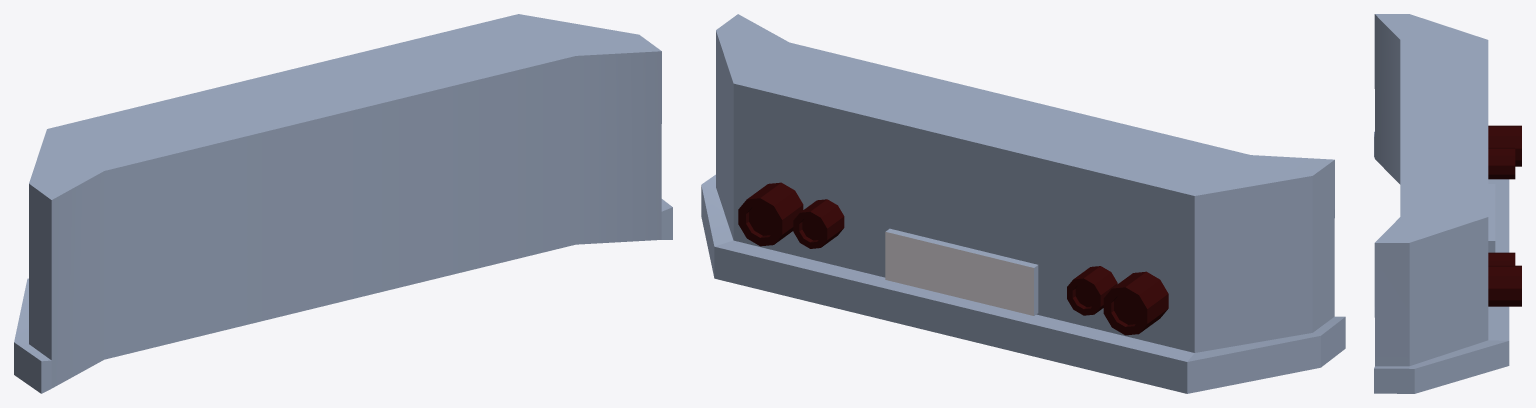
File: bumper3.2.fbx
3 views of the same model, side by side, from view 1: azimuth 30°, elevation 25°; view 2: azimuth 150°, elevation 25°; view 3: azimuth 270°, elevation 25° (orthographic). The views are drawn at different scales.
Parts seen in each view (by area): view 1: bumper2; view 2: bumper2; view 3: bumper2.
Boxes of the visible parts, x1,y1,x2,y2 form: bumper2: (14,14,672,393); bumper2: (701,14,1345,393); bumper2: (1374,14,1521,393).
Size of the model in its own units: 2.28 by 0.6577 by 0.6.
